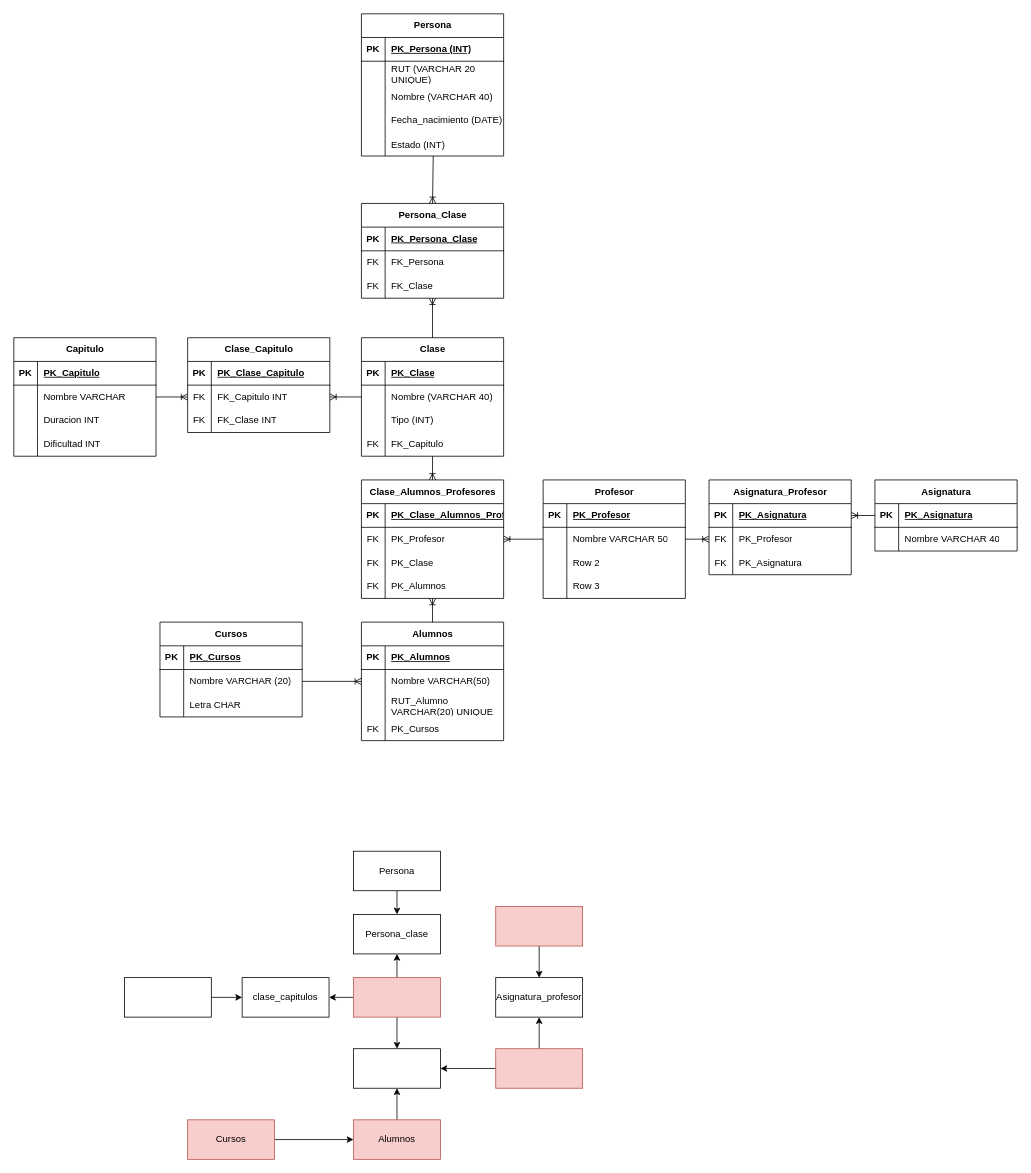
Image size: 1031x1173. Some labels were removed from this diagram. Here are the shapes that lost their labels. From the top down, the box of each, then its label:
(495, 906, 583, 946): Asignaturas
(124, 977, 211, 1017): Capitulos
(353, 977, 440, 1017): Clase o Tutorias
(353, 1048, 440, 1088): Tabla intermedia
(495, 1048, 583, 1088): Profesores
